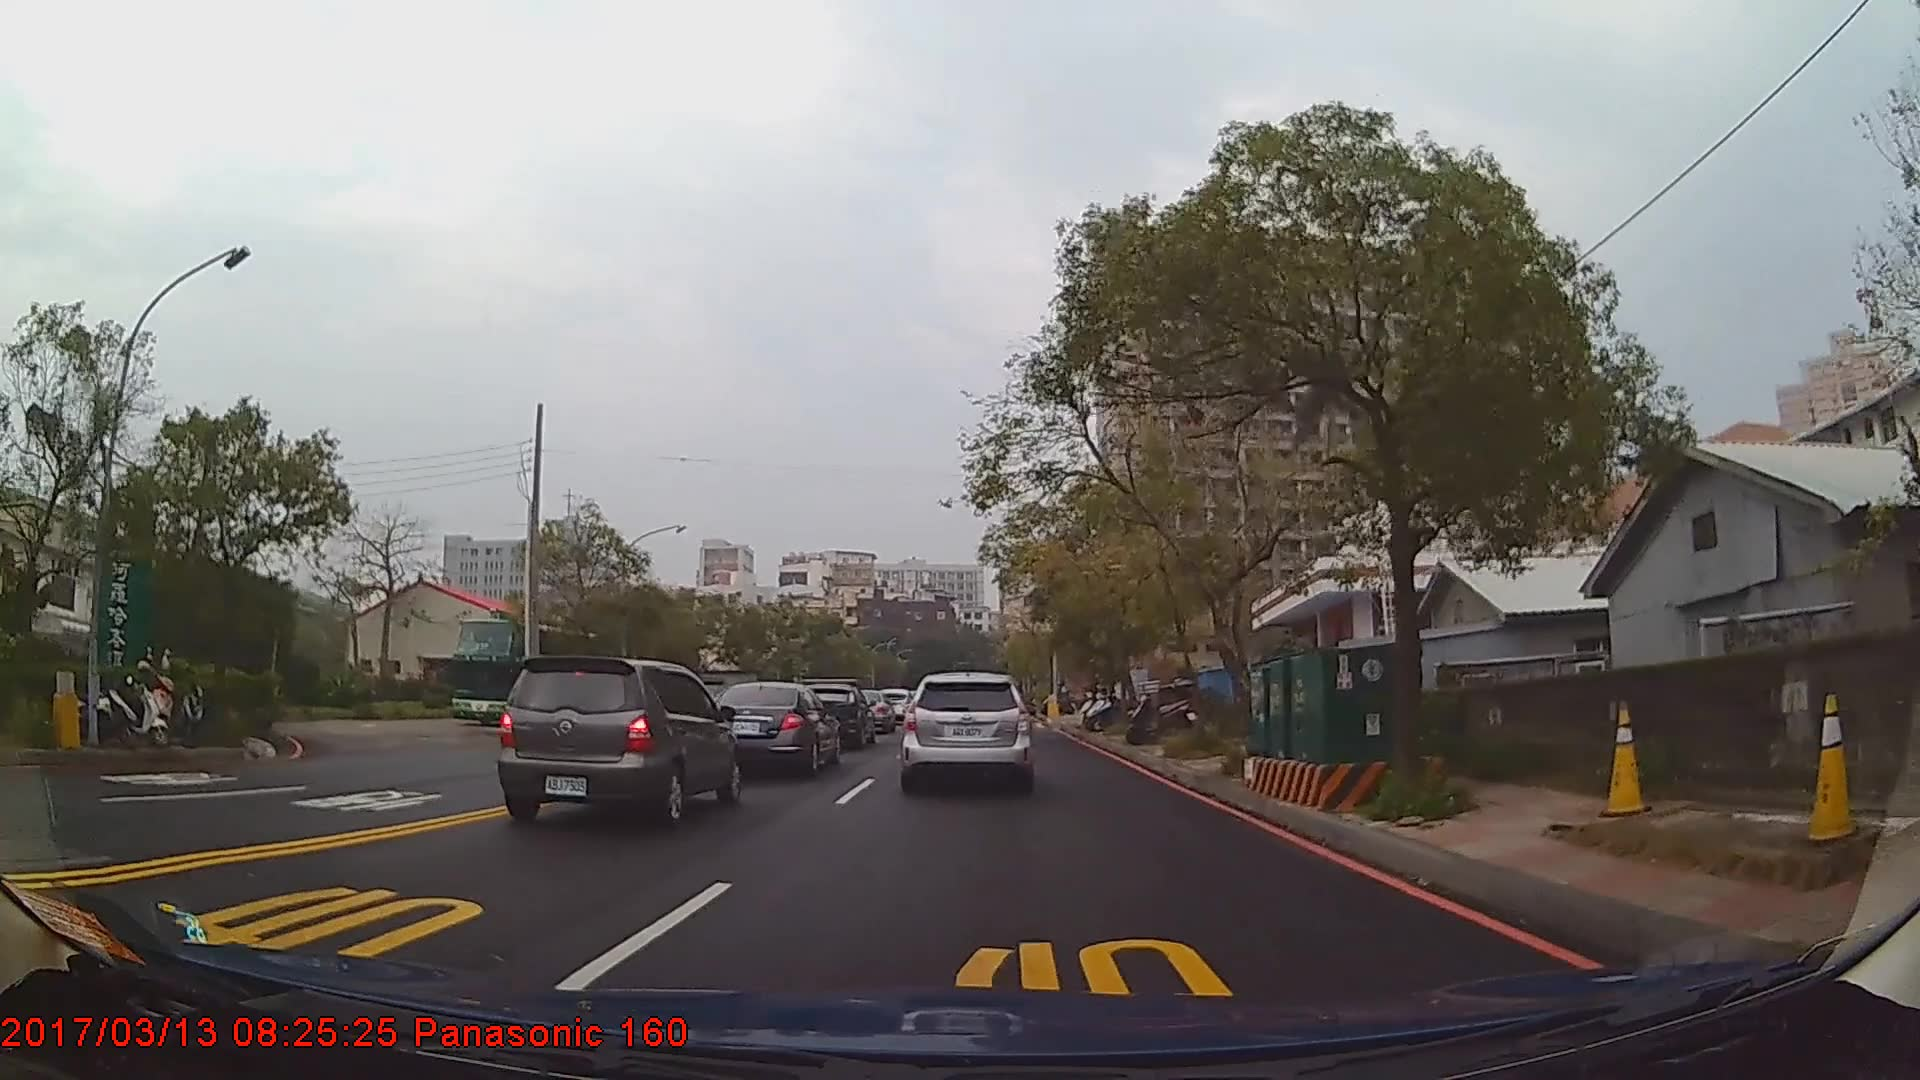vehicle: (495, 657, 742, 833), (451, 615, 618, 728), (899, 669, 1033, 789), (709, 680, 841, 777), (796, 683, 872, 748)
